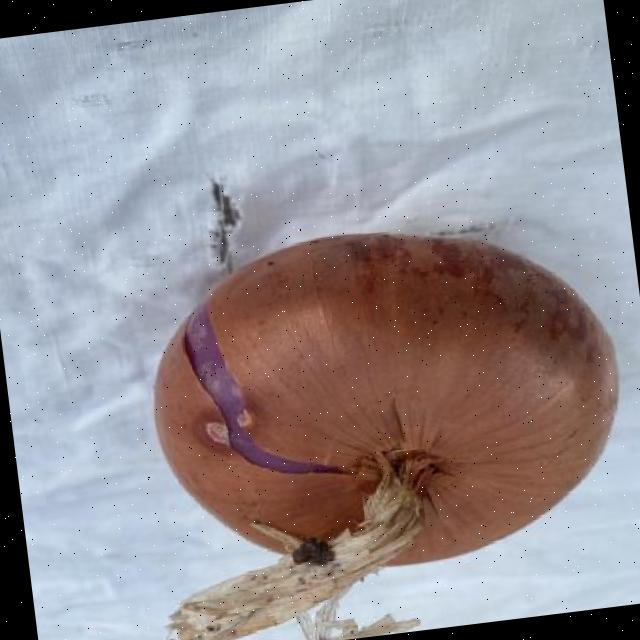Onion: (153, 233, 617, 640)
